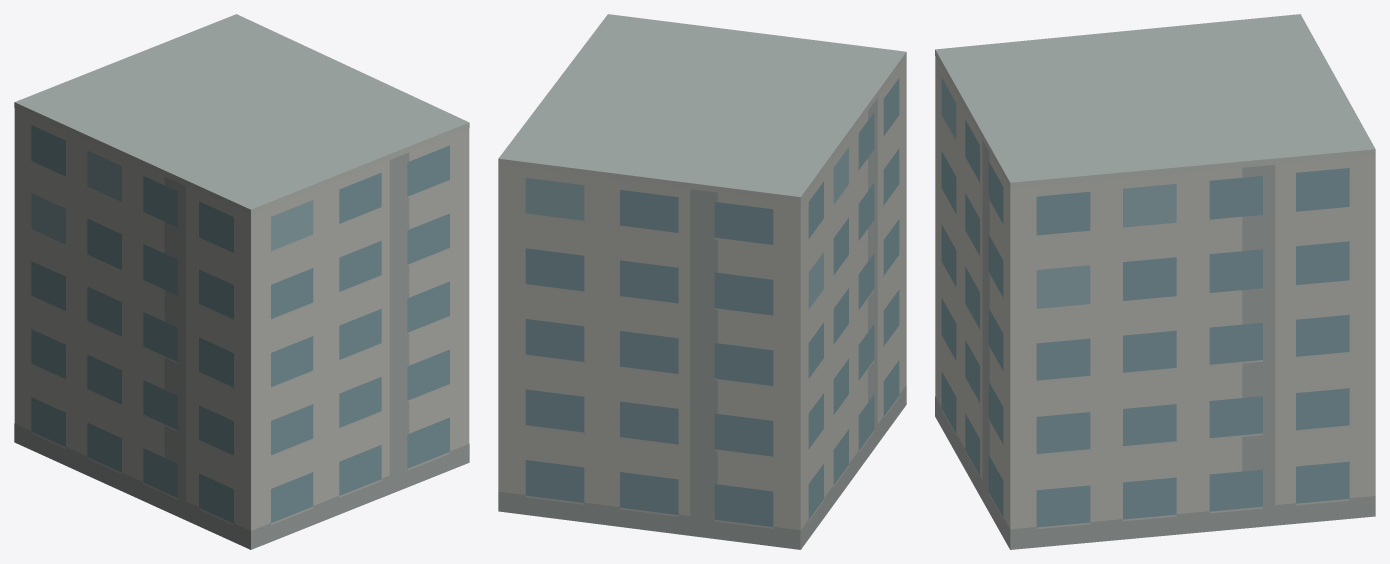
Rendered from survey-upis-32807551.glb.
The picture shows the model from 3 angles, left to right: view 1: azimuth 30°, elevation 25°; view 2: azimuth 150°, elevation 25°; view 3: azimuth 270°, elevation 25°; orthographic projection. The views are drawn at different scales.
Parts seen in each view (by area): view 1: survey-upis-32807551.tmp; view 2: survey-upis-32807551.tmp; view 3: survey-upis-32807551.tmp.
Boxes of the visible parts, bbox=[...] form: survey-upis-32807551.tmp: bbox=[14, 14, 469, 549]; survey-upis-32807551.tmp: bbox=[498, 14, 906, 549]; survey-upis-32807551.tmp: bbox=[935, 14, 1375, 549].
Bounding box in the file's own units: 13.91 × 14.1 × 15.35.
